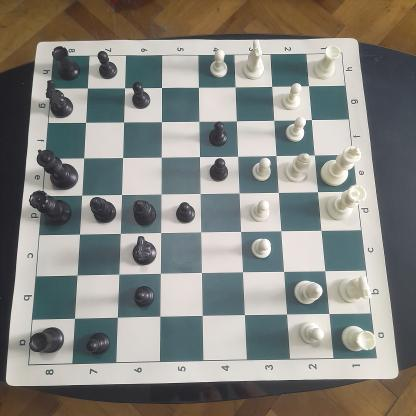black-bishop: (88, 194, 118, 227), (131, 197, 158, 227)
black-king: (34, 147, 80, 191)
black-knight: (44, 77, 75, 119), (130, 234, 158, 268)
black-pawn: (84, 327, 113, 358), (95, 48, 120, 81), (132, 280, 158, 310), (206, 119, 230, 148), (130, 79, 152, 110), (208, 156, 230, 184), (174, 200, 197, 226)
black-queen: (27, 189, 74, 228)
black-rook: (50, 43, 83, 82), (27, 324, 67, 356)
white-bishop: (283, 151, 315, 185), (292, 277, 327, 305)
white-king: (318, 142, 364, 188)
white-knight: (337, 272, 375, 305), (241, 38, 267, 81)
white-pawn: (298, 319, 326, 347), (208, 45, 231, 79), (280, 80, 304, 112), (284, 116, 310, 144), (250, 154, 273, 184), (248, 197, 272, 224), (250, 236, 274, 261)
white-queen: (324, 182, 368, 223)
white-rook: (339, 323, 379, 354), (312, 42, 342, 81)
